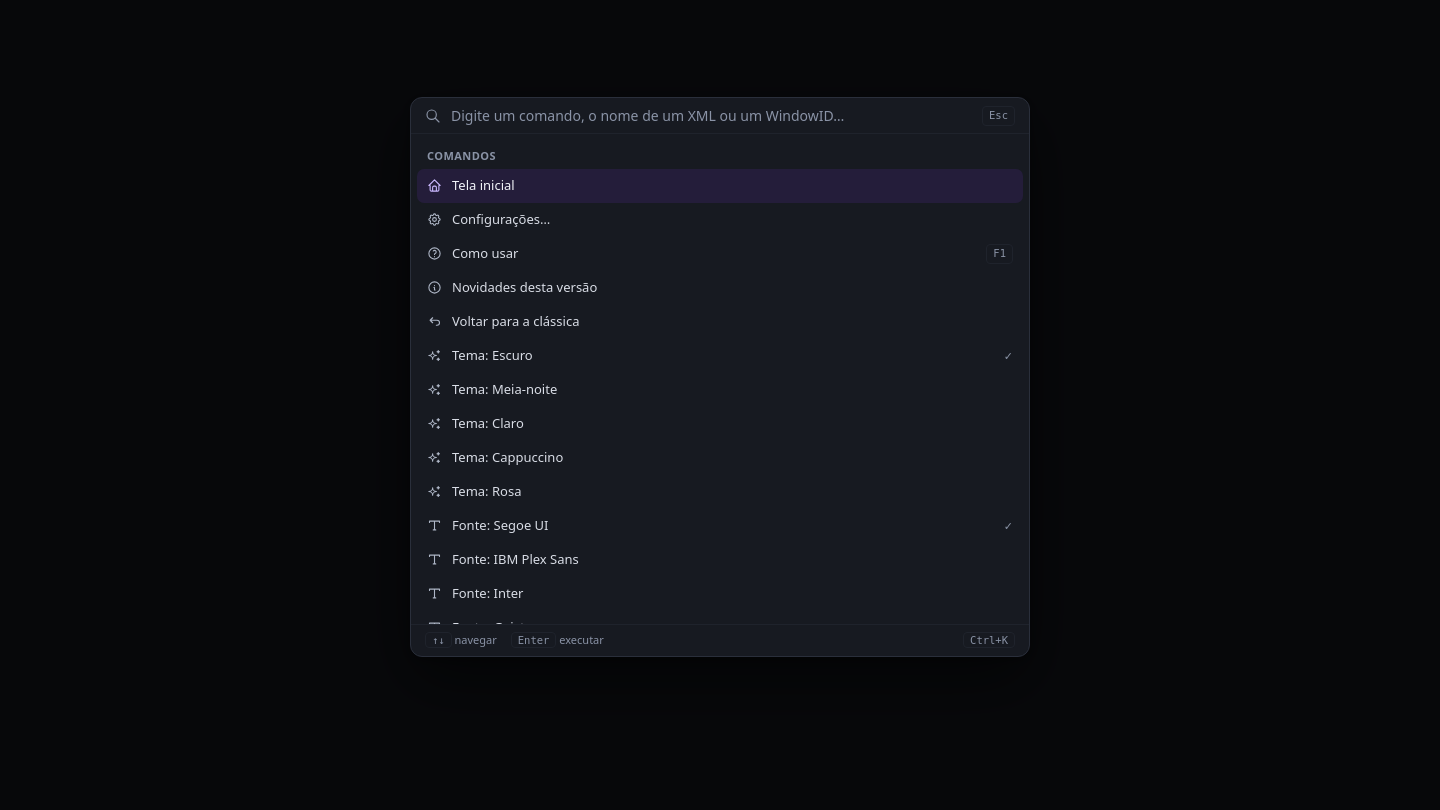
Test: Como usar (F1) › Ctrl+K encontra "Como usar"
Step 1. Type "como usar" into the dropdown with test id "command-input" → [712, 116], box [451,98,972,133]
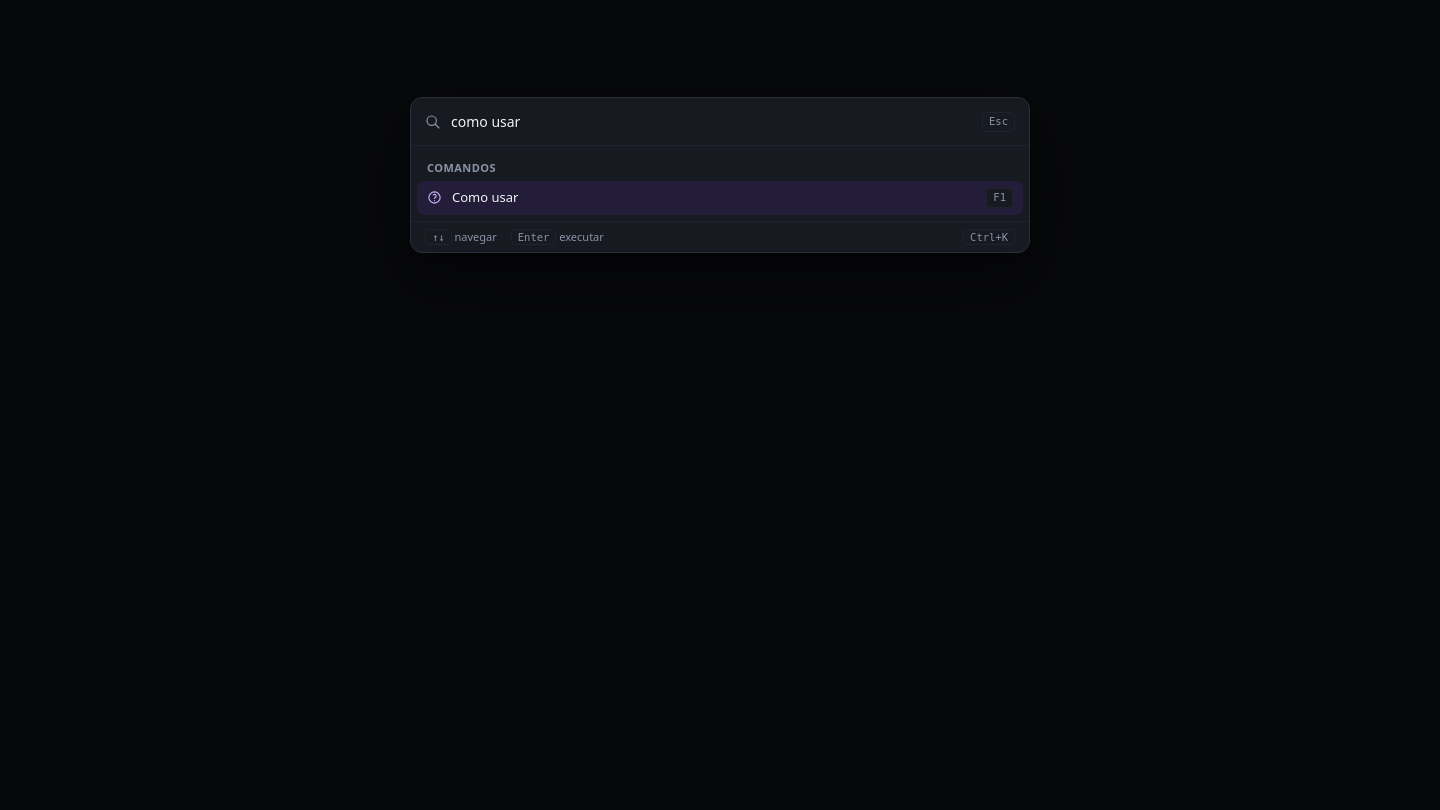
Step 2. Click the text "Como usar" → [485, 197], box [452,188,518,206]
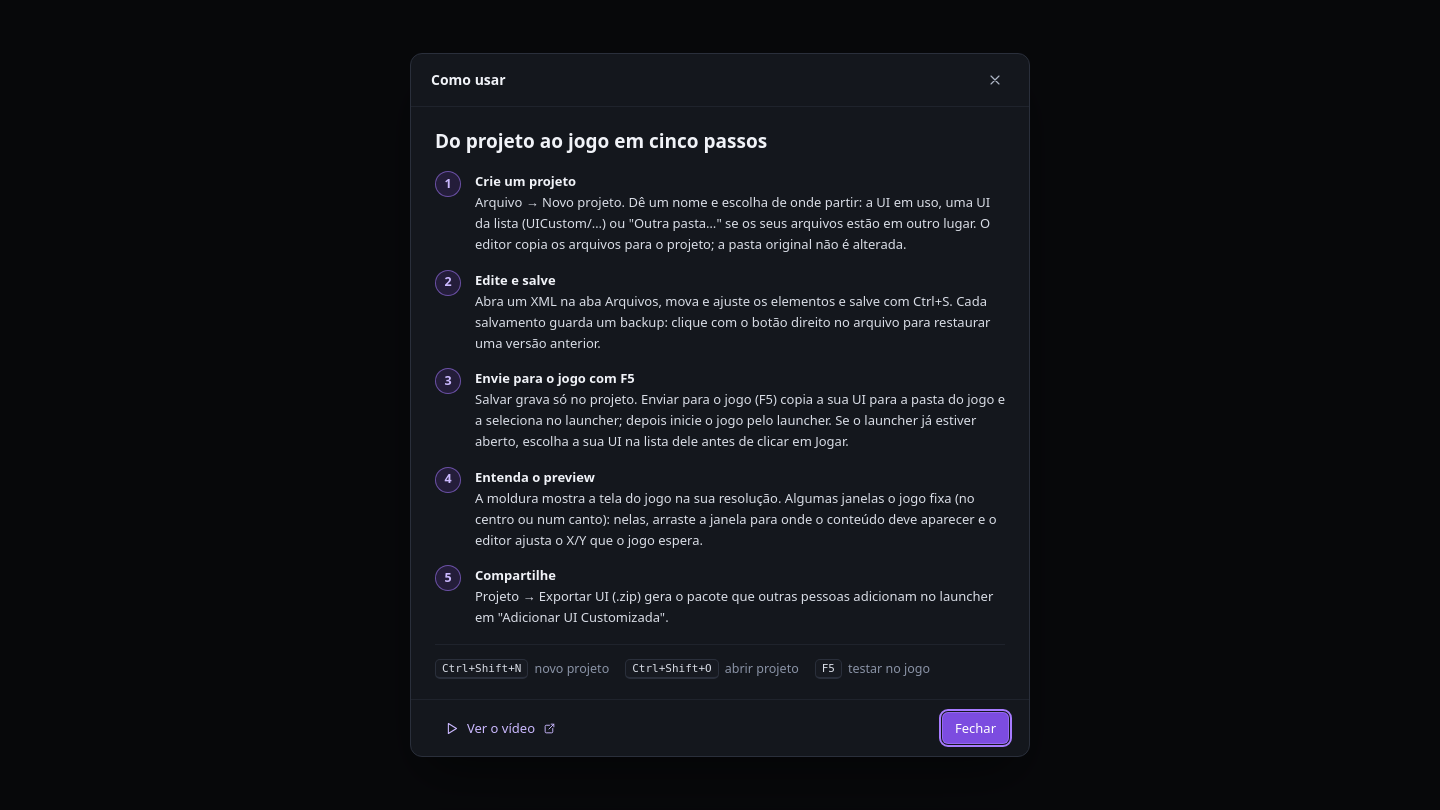
Now the dialog "Como usar" is shown, box [410,53,1030,758]
